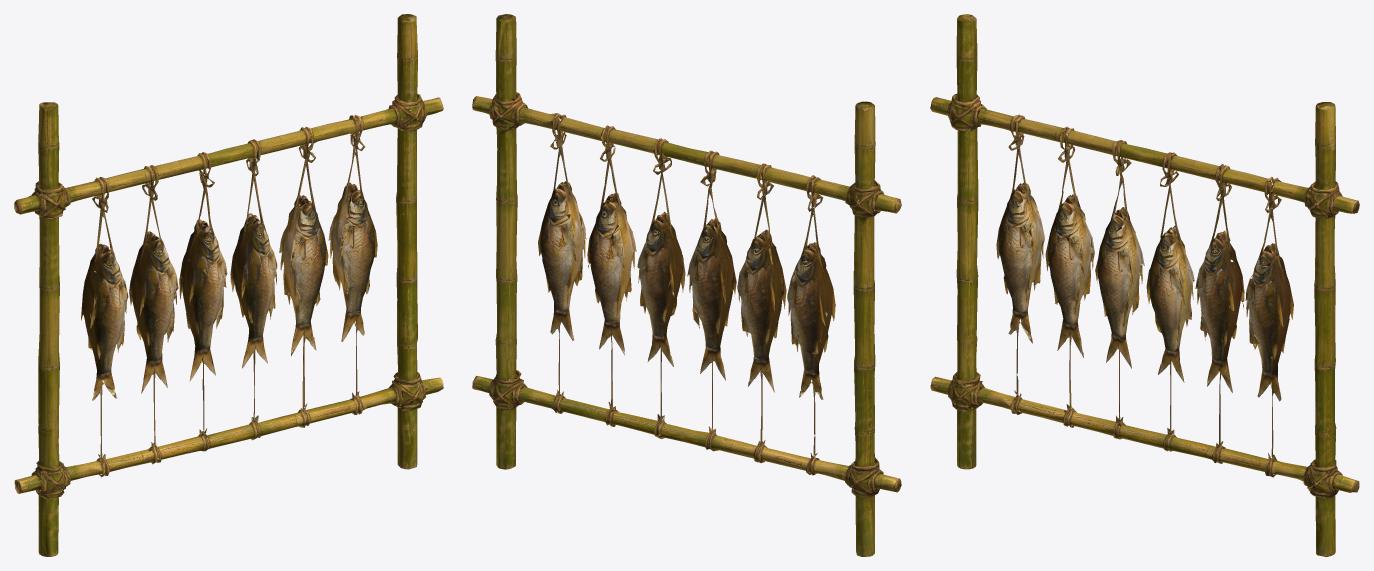
The model's file is fischgestell.glb.
3 renders of one model, left to right at view 1: azimuth 30°, elevation 25°; view 2: azimuth 150°, elevation 25°; view 3: azimuth 330°, elevation 25°, orthographic.
Bounding box in the file's own units: 1.88 × 1.9 × 0.1676.
1 material, 1 textured.
